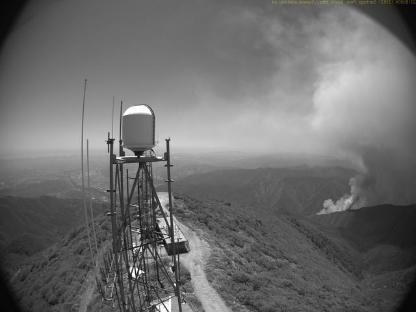smoke: (317, 54, 415, 218)
